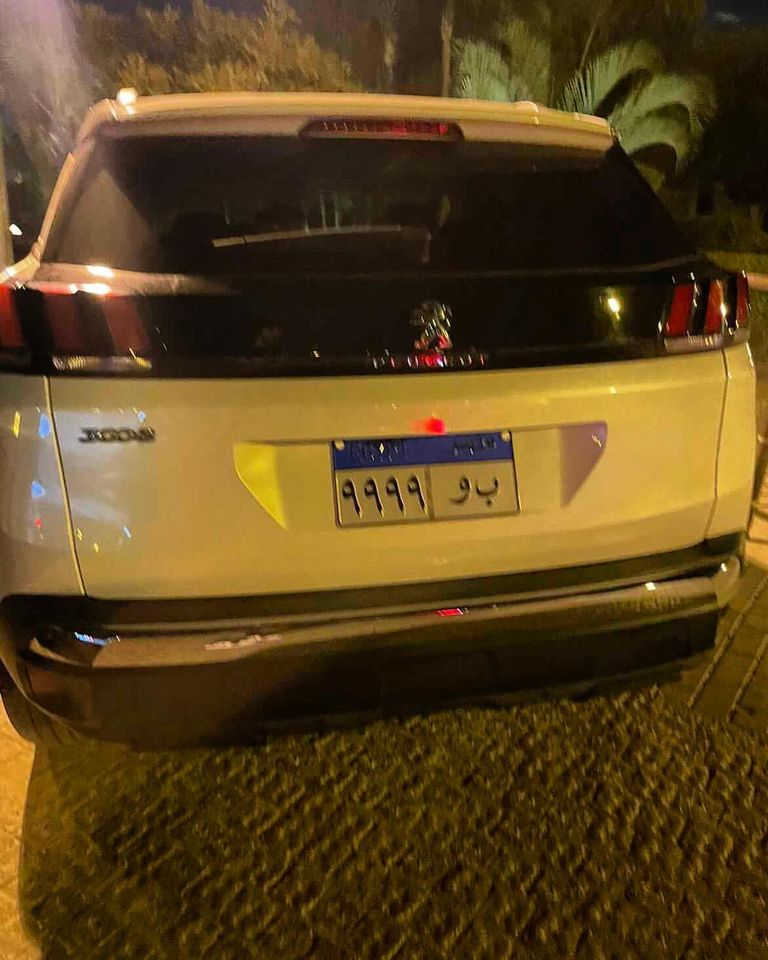carpl: (322, 439, 516, 524)
